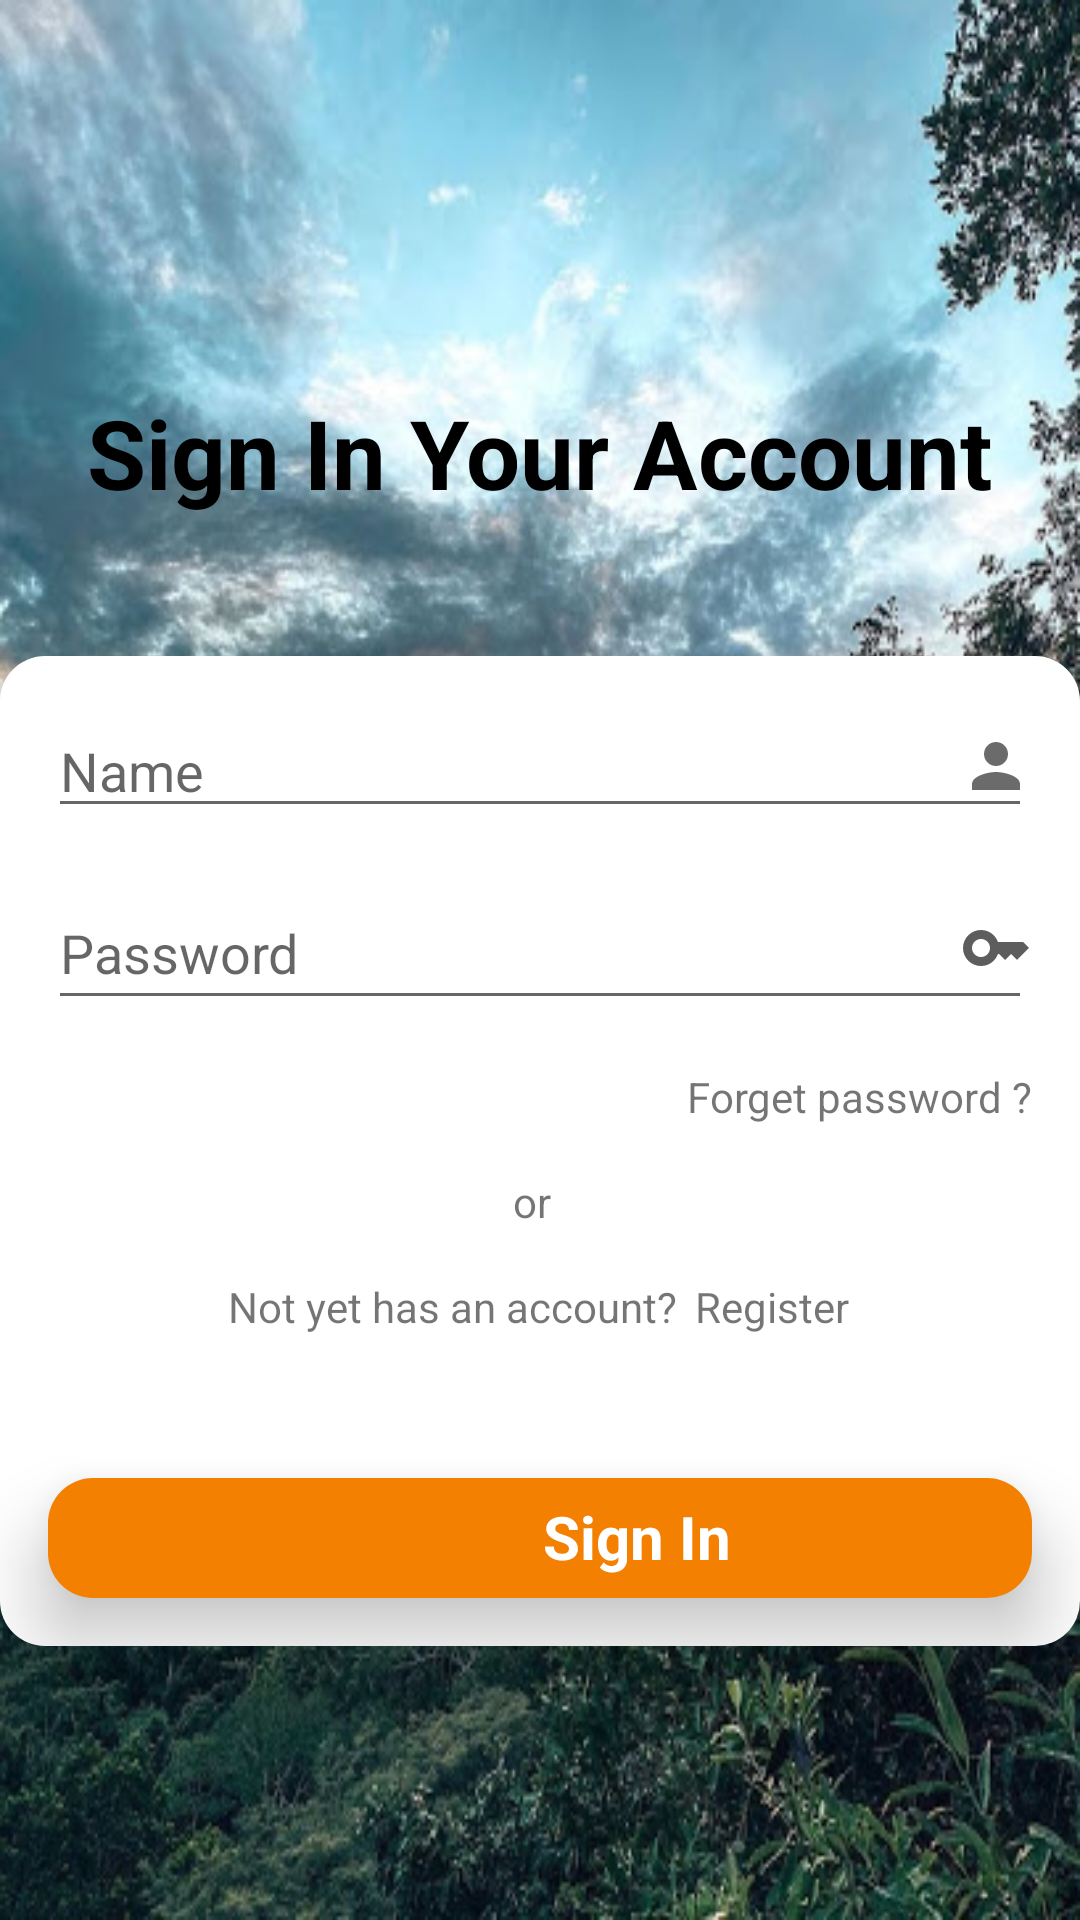

Icons on this 1080px×1920px Android screen, each with the point to tap as (x=x, y=y):
key: (x=996, y=948)
person: (x=996, y=766)
